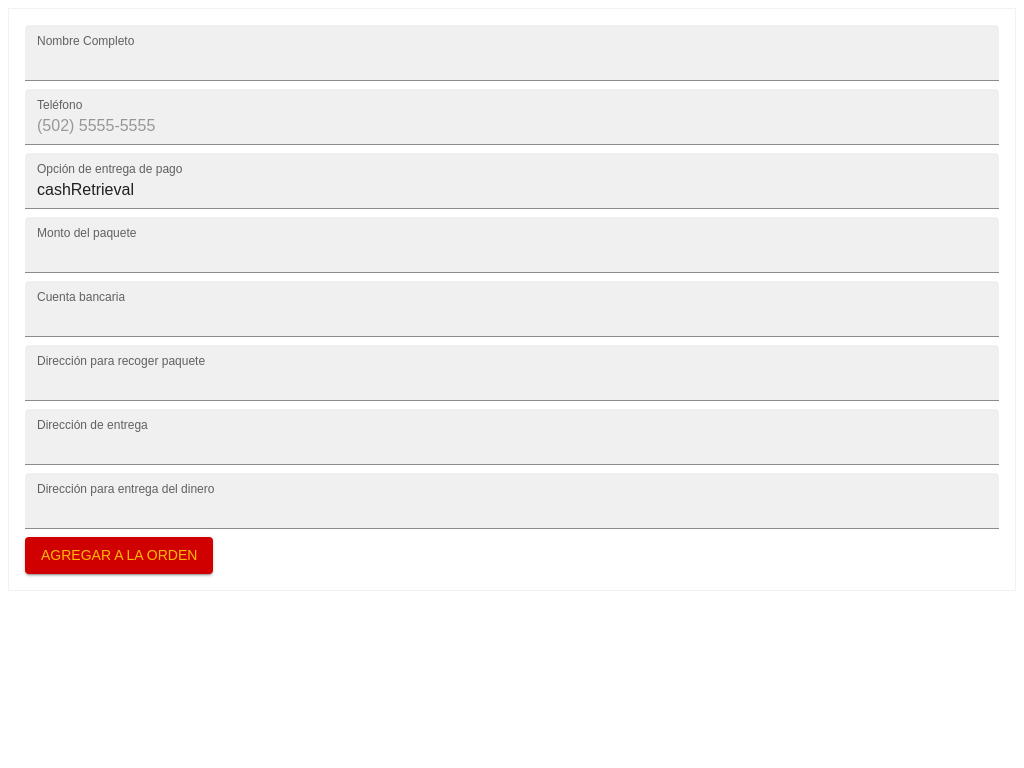
Test: presentation:components:organisms:package-form:control › It should not submit the form if the [Phone] field is empty
Type "Shirley Mirella Robles Lau" into the field labelled "Nombre Completo" at (512, 53), box x1=25 y1=25 x2=999 y2=81
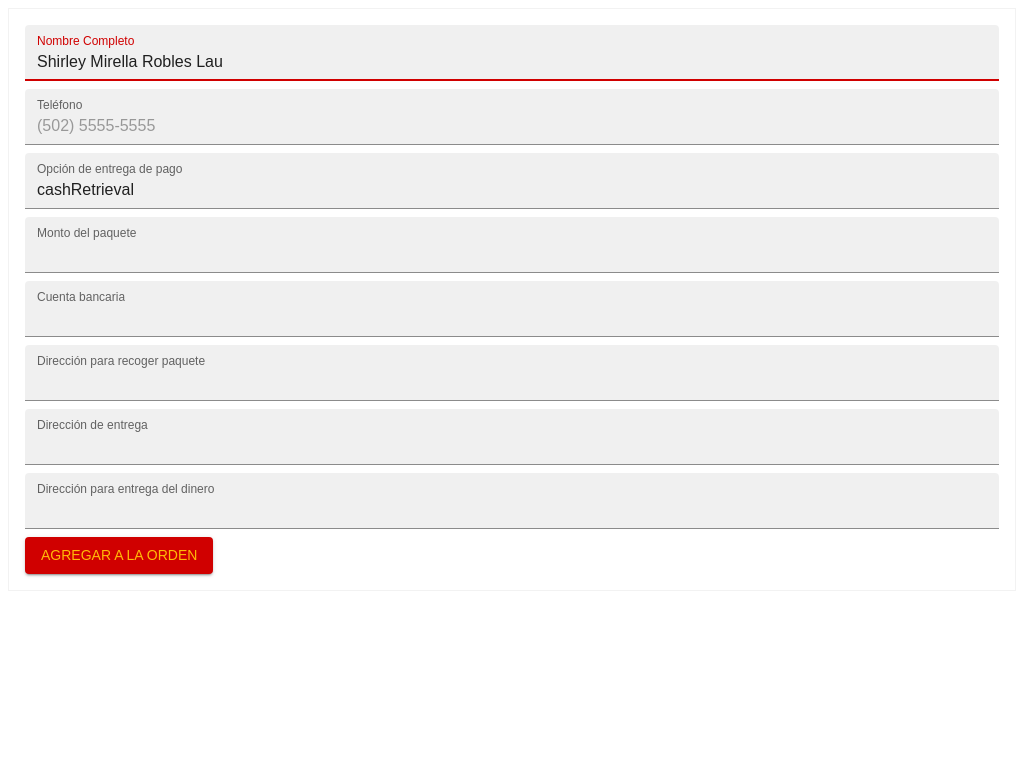
Type "10.00" into the field labelled "Monto del paquete" at (512, 245), box x1=25 y1=217 x2=999 y2=273
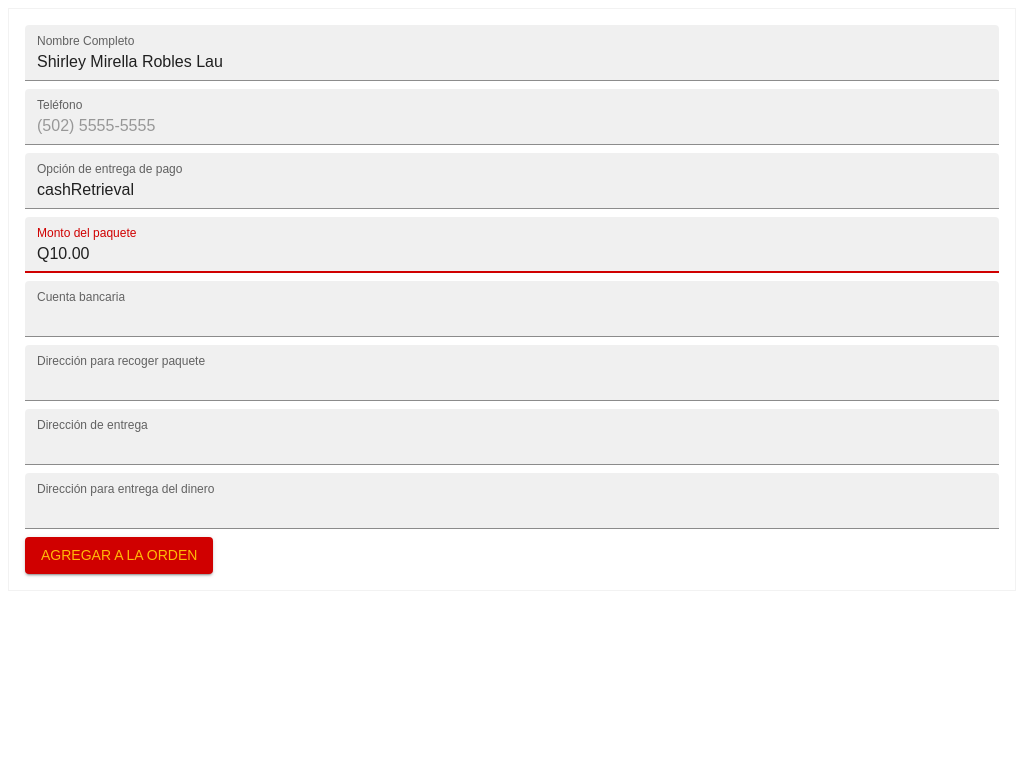
Type "3309097790" into the field labelled "Cuenta bancaria" at (512, 309), box x1=25 y1=281 x2=999 y2=337
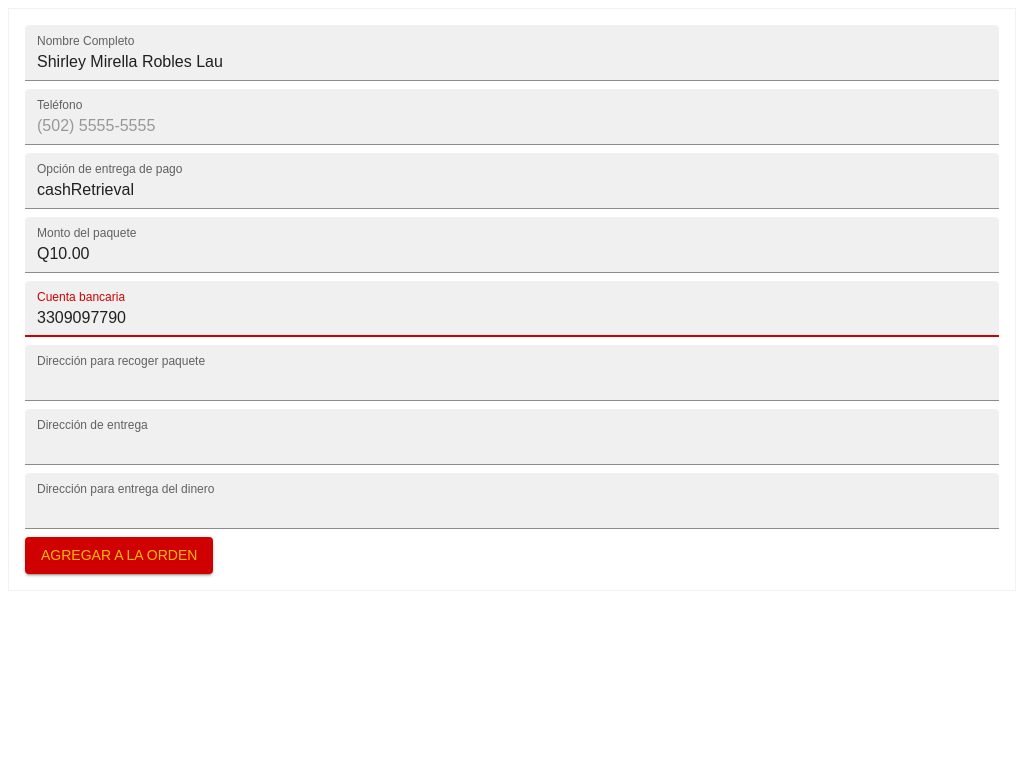
Type "3AV-20 Pueblo Nuevo Suchitepéquez" into the field labelled "Dirección para recoger paquete" at (512, 373), box x1=25 y1=345 x2=999 y2=401
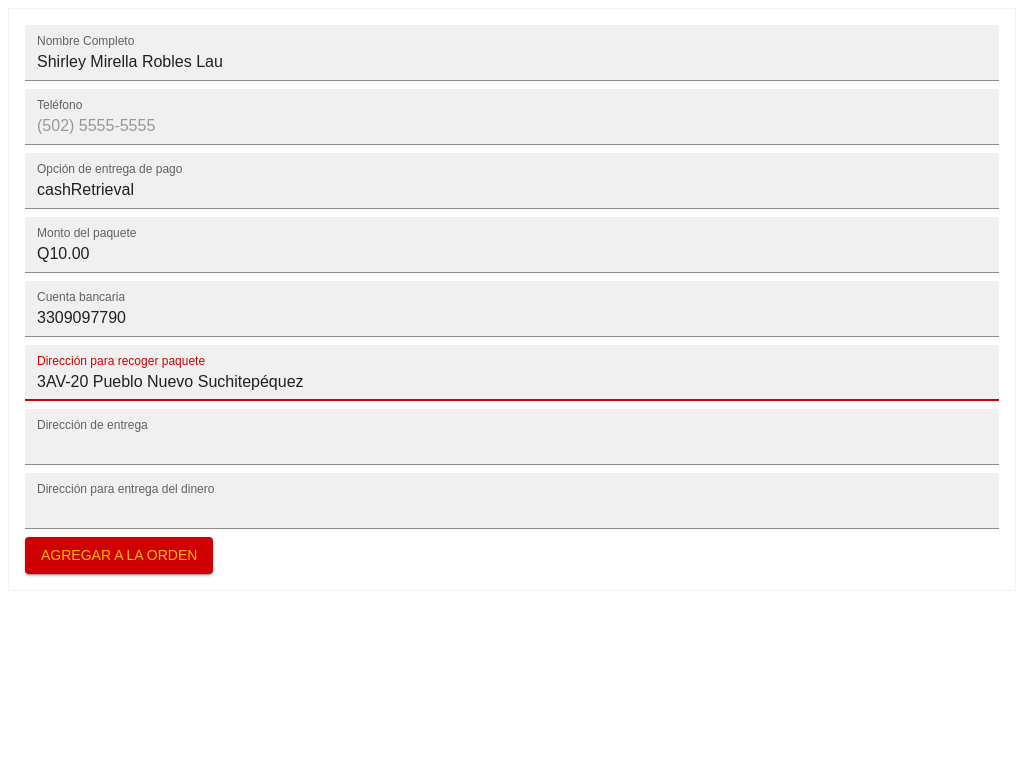
Type "San Felipe Retalhuleu" into the field labelled "Dirección de entrega" at (512, 437), box x1=25 y1=409 x2=999 y2=465
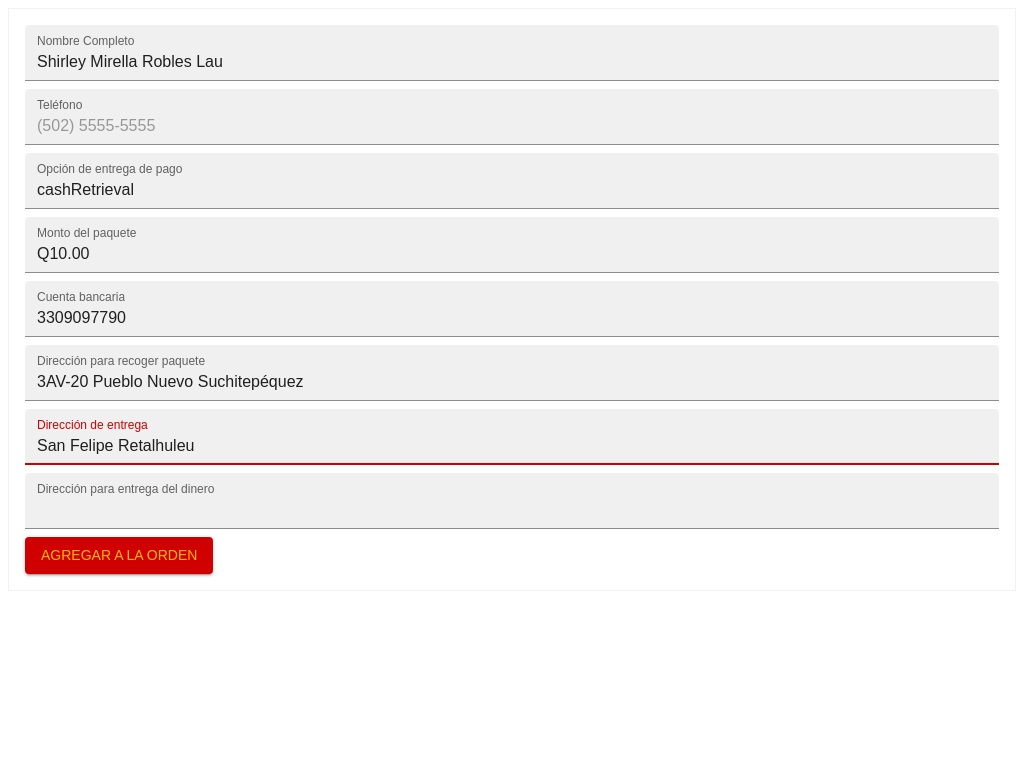
Click the button "Agregar a la Orden" at (119, 555), box x1=25 y1=537 x2=213 y2=574
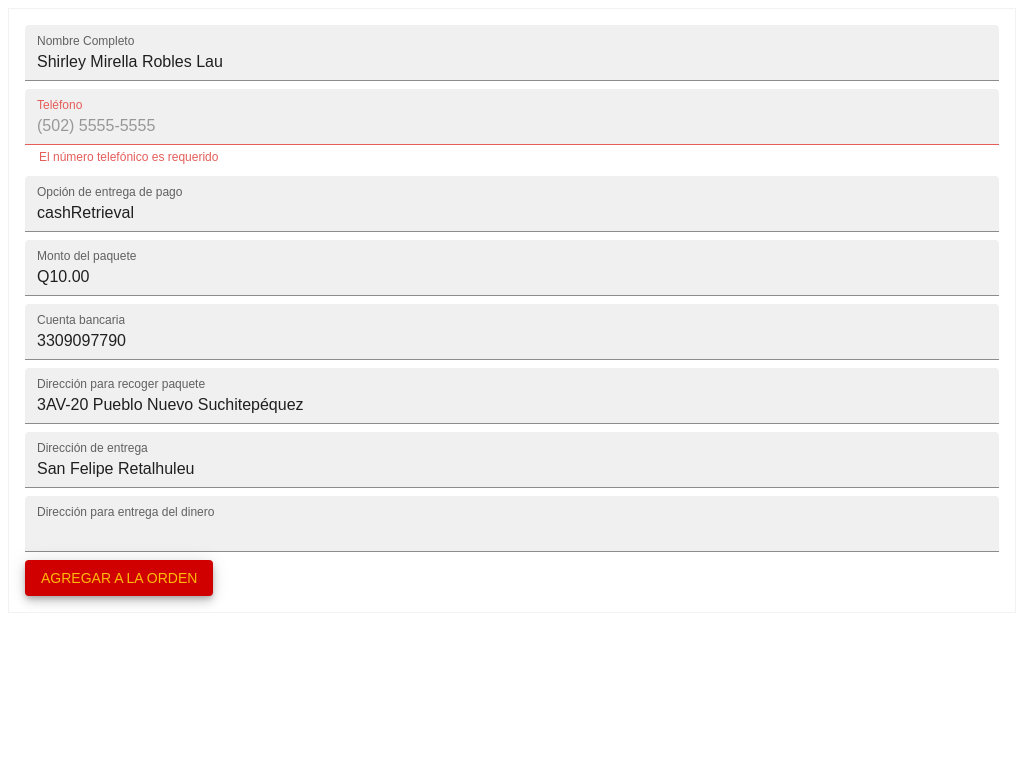
Check: the text "El número telefónico es requerido" is shown, box x1=39 y1=150 x2=218 y2=164
